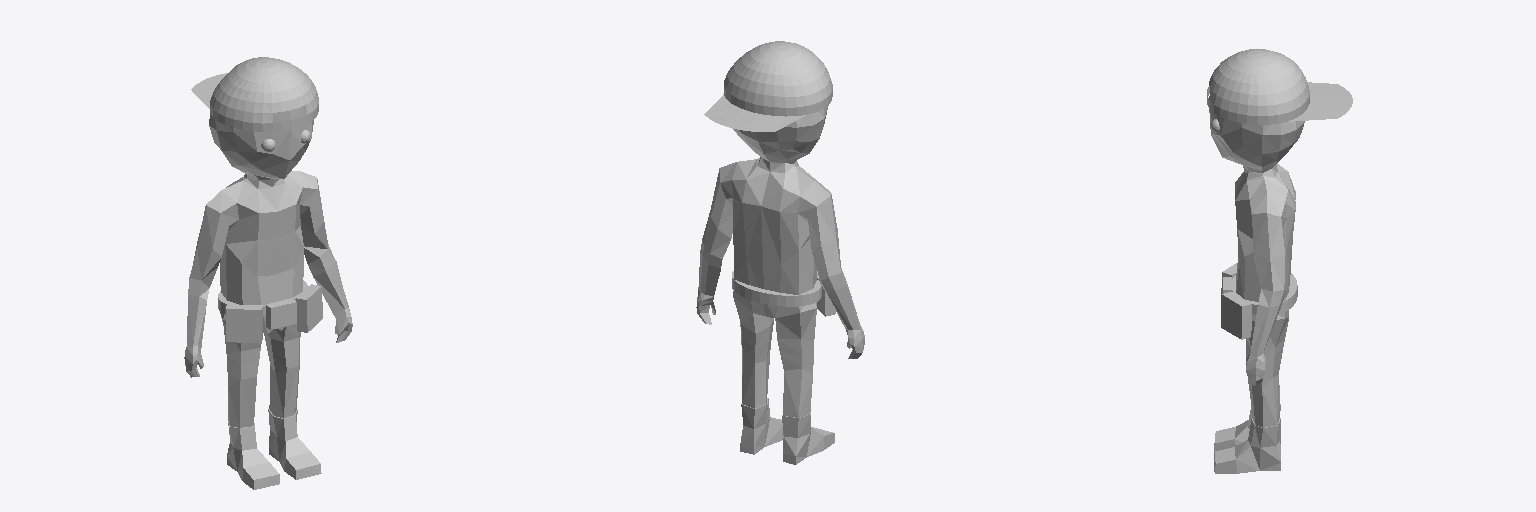
File: Main_Character_Repair_1.obj
3 views of the same model, side by side, from view 1: azimuth 30°, elevation 25°; view 2: azimuth 150°, elevation 25°; view 3: azimuth 270°, elevation 25° (orthographic).
Parts seen in each view (by area): view 1: Main_Character_Test.003_Main_Character_Test.004; view 2: Main_Character_Test.003_Main_Character_Test.004; view 3: Main_Character_Test.003_Main_Character_Test.004.
Part boxes in pixels (left/top/right/bottom): Main_Character_Test.003_Main_Character_Test.004: left=184, top=57, right=352, bottom=489; Main_Character_Test.003_Main_Character_Test.004: left=696, top=41, right=864, bottom=464; Main_Character_Test.003_Main_Character_Test.004: left=1207, top=49, right=1352, bottom=473.
Bounding box in the file's own units: 1.7 × 3.98 × 1.31.